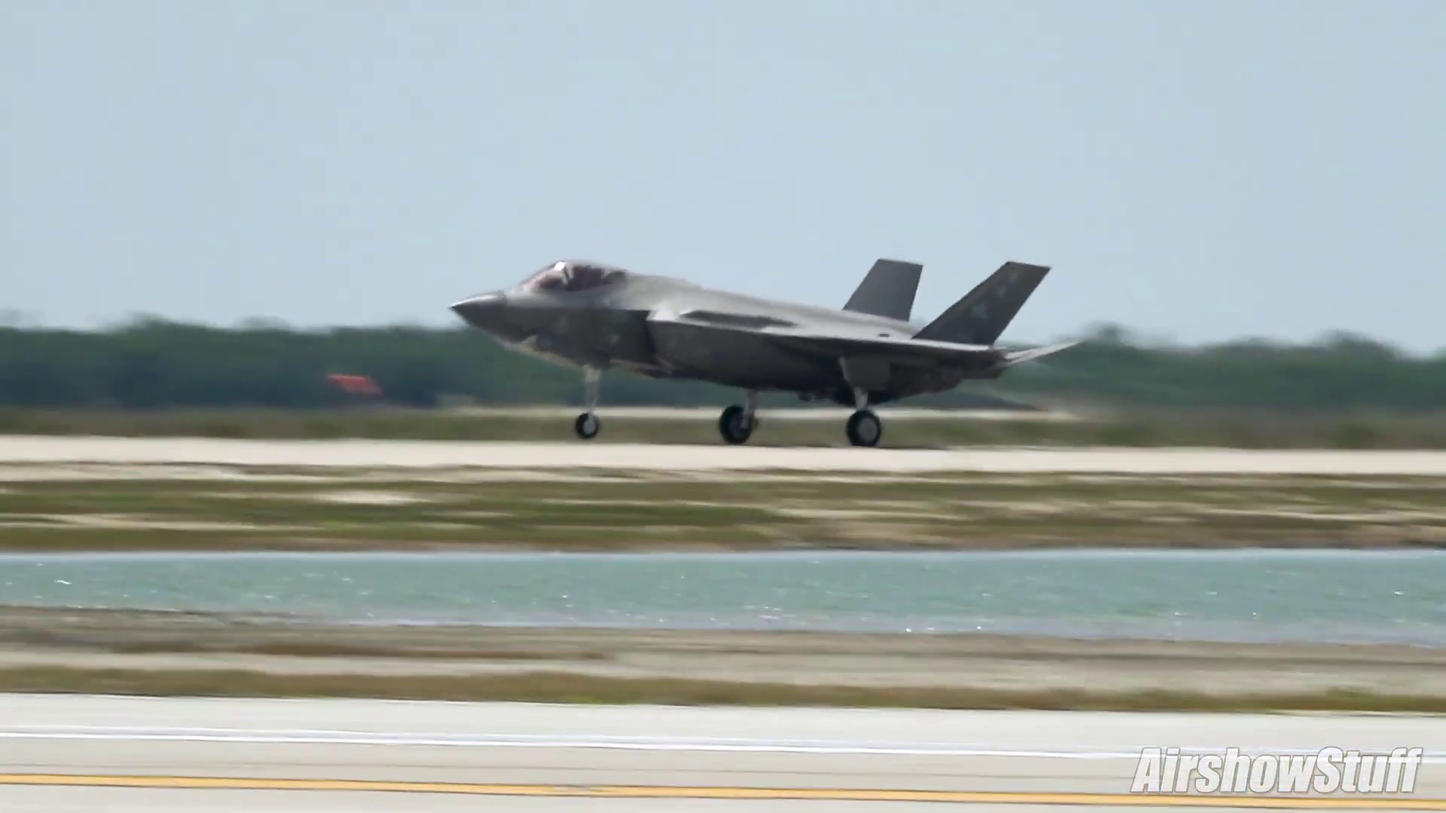F35: (441, 250, 1083, 452)
